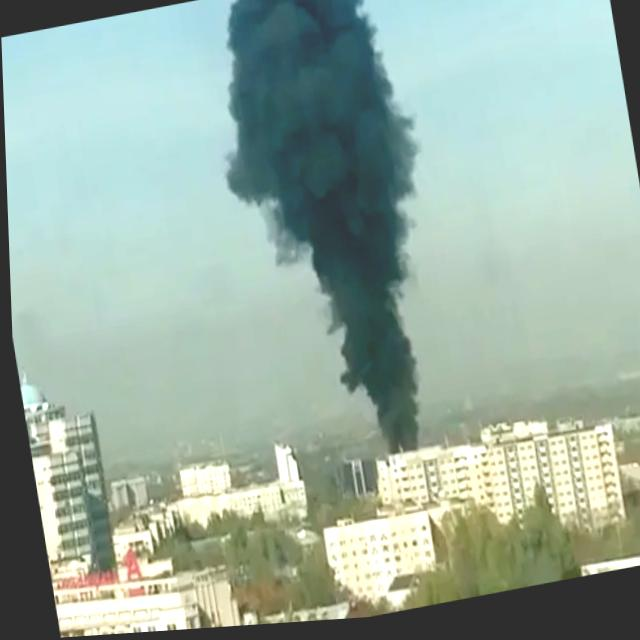Smoke: (194, 0, 460, 475)
